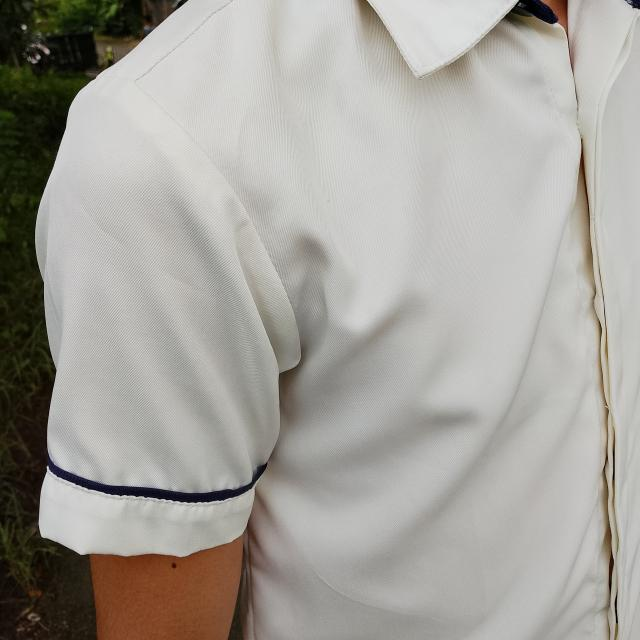education_male_uniform: (16, 12, 624, 578)
